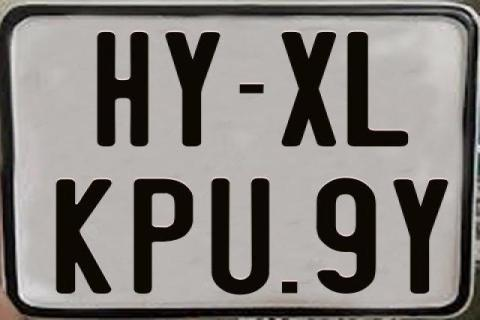0: (315, 176, 379, 292)
H: (95, 30, 148, 144)
K: (54, 179, 112, 299)
L: (344, 30, 408, 146)
P: (133, 178, 195, 298)
U: (210, 178, 272, 300)
X: (280, 32, 340, 150)
Y: (391, 177, 449, 295), (165, 31, 222, 148)
